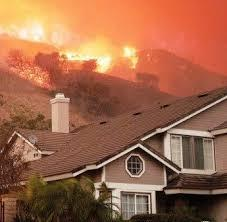fire: (0, 0, 158, 75)
